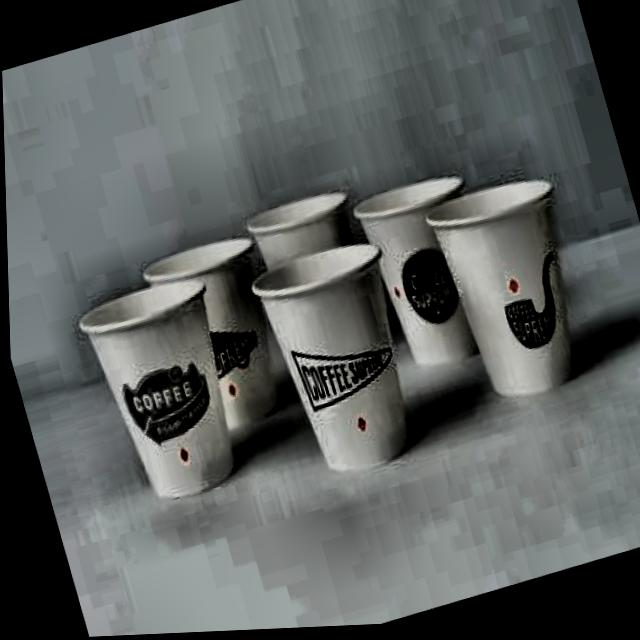Cup: (237, 224, 433, 525), (68, 270, 247, 512), (416, 180, 597, 415), (346, 163, 521, 396), (136, 233, 299, 455)
